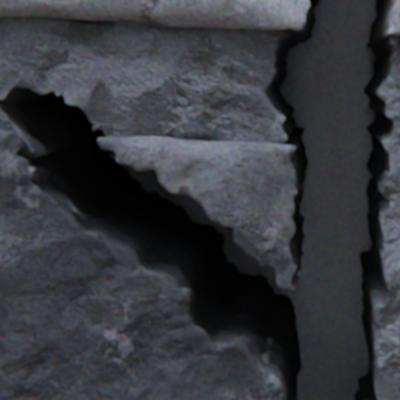broken_brick: (0, 128, 286, 399), (98, 136, 300, 289), (0, 0, 309, 29), (385, 0, 399, 35)
crack: (0, 0, 398, 399)
